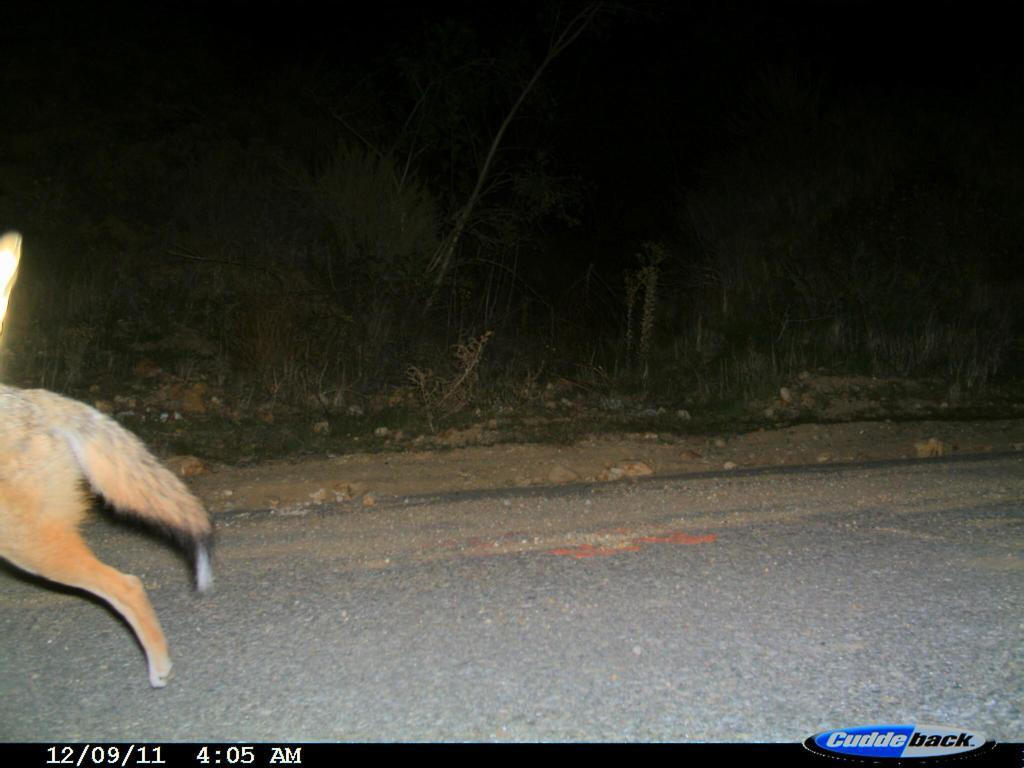coyote: (6, 218, 231, 689)
